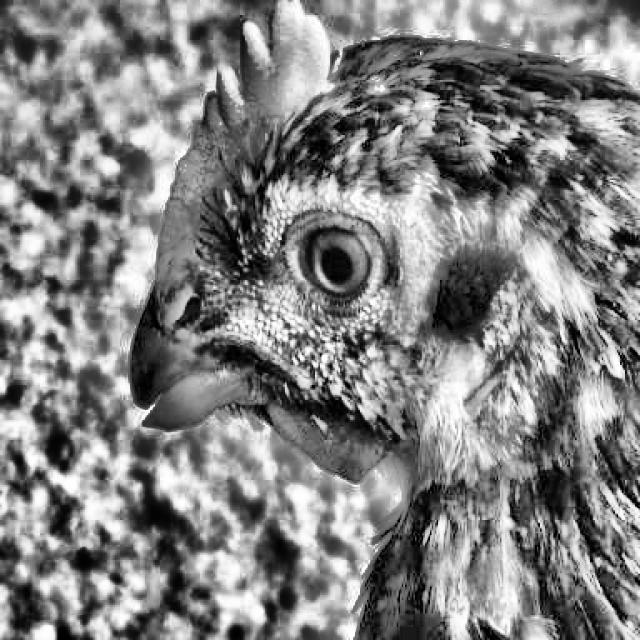Healthy: (270, 193, 410, 327)
